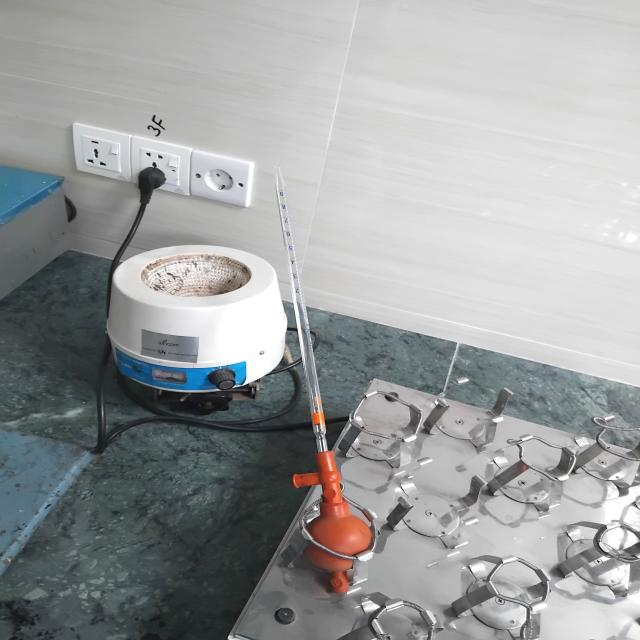Volumetric_Pipet: (228, 151, 406, 616)
